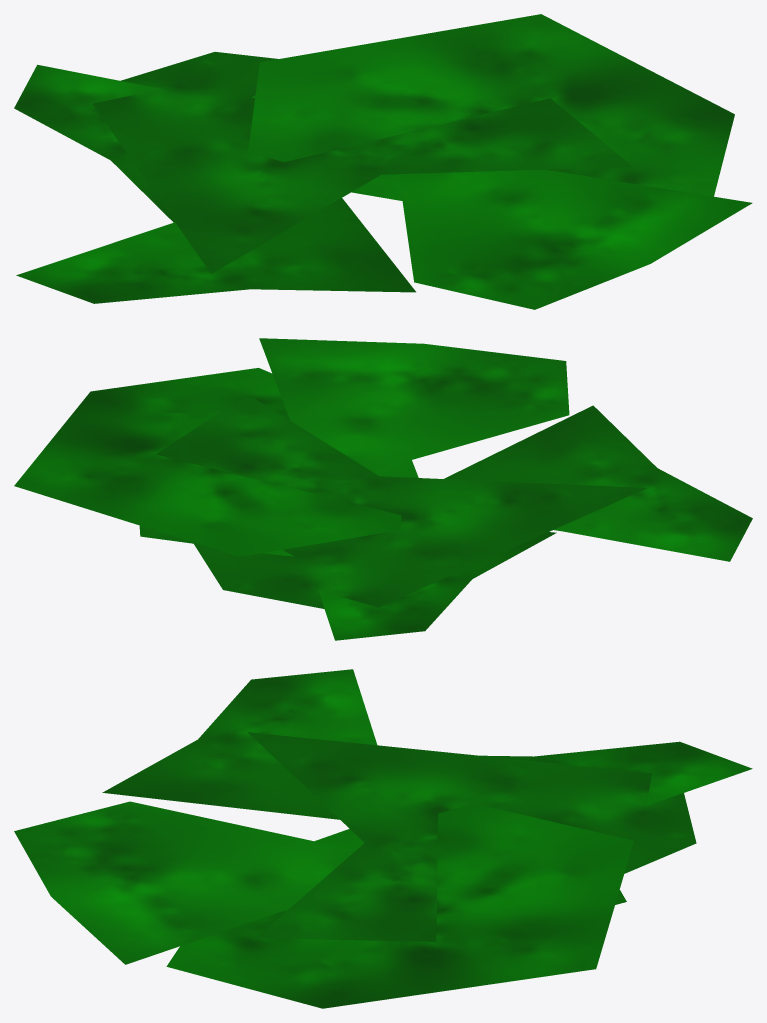
Rendered from Thatching Grass_LOD1_Var17_uddmcgbia.glb.
3 renders of one model, top to bottom at view 1: azimuth 30°, elevation 25°; view 2: azimuth 150°, elevation 25°; view 3: azimuth 270°, elevation 25°, orthographic. The views are drawn at different scales.
Parts seen in each view (by area): view 1: _a8f1_Var17_LOD1; view 2: _a8f1_Var17_LOD1; view 3: _a8f1_Var17_LOD1.
Part boxes in pixels (x1,y1,x2,y2): _a8f1_Var17_LOD1: [14, 14, 752, 309]; _a8f1_Var17_LOD1: [14, 338, 752, 640]; _a8f1_Var17_LOD1: [14, 669, 752, 1008].
Size of the model in its own units: 0.1002 by 0.00298 by 0.0921.
1 material, 1 textured.
